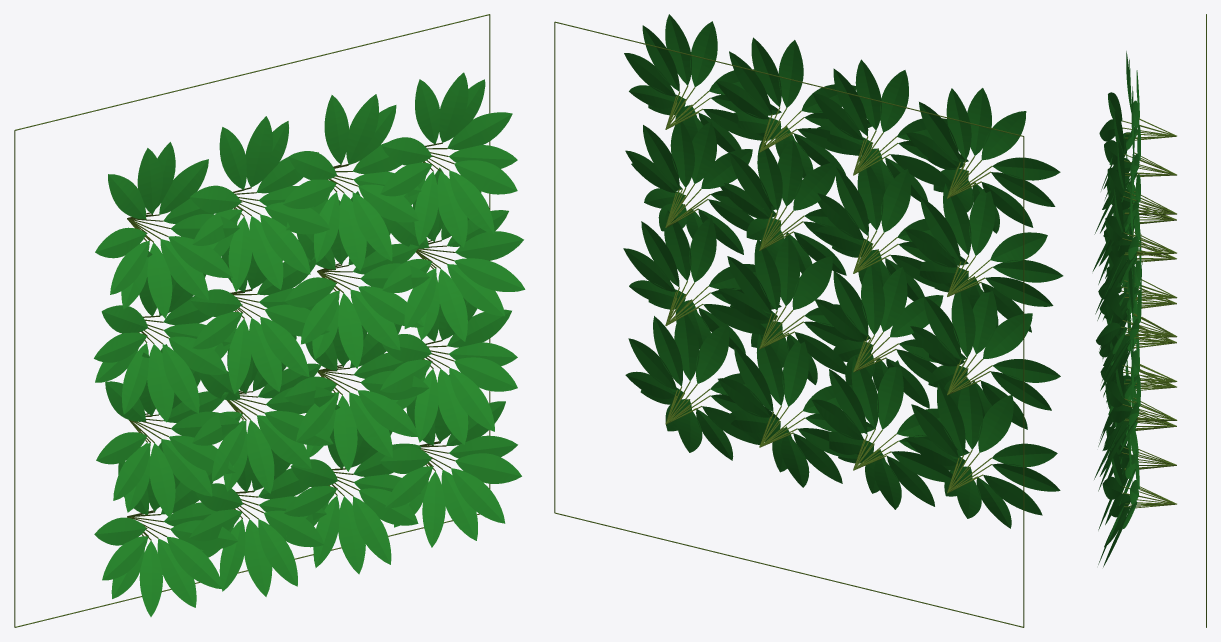
Rendered from spathiphyllum_green_wall_1m2.obj.
3 renders of one model, left to right at view 1: azimuth 30°, elevation 25°; view 2: azimuth 150°, elevation 25°; view 3: azimuth 270°, elevation 25°, orthographic. The views are drawn at different scales.
Visible parts, largest first — view 1: leaf_unit_2_3_3, leaf_unit_1_2_3, leaf_unit_0_0_3, leaf_unit_0_3_3, leaf_unit_2_1_3, leaf_unit_3_3_3, leaf_unit_3_1_3, leaf_unit_1_3_3, leaf_unit_1_3_8, leaf_unit_3_2_3, leaf_unit_0_1_3, leaf_unit_3_3_8 (+113 smaller); view 2: leaf_unit_1_0_7, leaf_unit_1_2_7, leaf_unit_0_0_7, leaf_unit_0_3_7, leaf_unit_3_0_7, leaf_unit_2_1_7, leaf_unit_0_2_7, leaf_unit_1_3_7, leaf_unit_0_1_7, leaf_unit_2_0_7, leaf_unit_2_2_7, leaf_unit_3_3_7 (+92 smaller); view 3: stem_panel_edge_1, leaf_unit_2_3_9, leaf_unit_1_3_9, leaf_unit_3_3_9, leaf_unit_2_3_4, leaf_unit_0_3_9, leaf_unit_1_3_1, leaf_unit_3_2_9, leaf_unit_0_3_1, leaf_unit_3_3_1, leaf_unit_3_1_9, leaf_unit_3_3_4 (+17 smaller).
Part boxes in pixels (left/top/right/bottom): leaf_unit_2_3_3: left=454, top=258, right=525, bottom=291; leaf_unit_1_2_3: left=357, top=390, right=418, bottom=436; leaf_unit_0_0_3: left=166, top=536, right=223, bottom=589; leaf_unit_0_3_3: left=451, top=468, right=505, bottom=523; leaf_unit_2_1_3: left=260, top=316, right=309, bottom=376; leaf_unit_3_3_3: left=449, top=170, right=494, bottom=234; leaf_unit_3_1_3: left=260, top=214, right=310, bottom=274; leaf_unit_1_3_3: left=449, top=367, right=494, bottom=431; leaf_unit_1_3_8: left=454, top=357, right=517, bottom=391; leaf_unit_3_2_3: left=352, top=192, right=392, bottom=261; leaf_unit_0_1_3: left=258, top=519, right=297, bottom=586; leaf_unit_3_3_8: left=454, top=160, right=517, bottom=194; leaf_unit_1_0_7: left=983, top=313, right=1032, bottom=359; leaf_unit_1_2_7: left=792, top=256, right=832, bottom=309; leaf_unit_0_0_7: left=978, top=395, right=1013, bottom=452; leaf_unit_0_3_7: left=696, top=323, right=729, bottom=383; leaf_unit_3_0_7: left=981, top=111, right=1026, bottom=160; leaf_unit_2_1_7: left=881, top=169, right=910, bottom=232; leaf_unit_0_2_7: left=782, top=340, right=808, bottom=406; leaf_unit_1_3_7: left=689, top=217, right=716, bottom=282; leaf_unit_0_1_7: left=877, top=360, right=903, bottom=429; leaf_unit_2_0_7: left=969, top=189, right=994, bottom=255; leaf_unit_2_2_7: left=793, top=162, right=836, bottom=210; leaf_unit_3_3_7: left=690, top=21, right=717, bottom=86; stem_panel_edge_1: left=1206, top=209, right=1206, bottom=627; leaf_unit_2_3_9: left=1096, top=322, right=1120, bottom=345; leaf_unit_1_3_9: left=1105, top=381, right=1122, bottom=407; leaf_unit_3_3_9: left=1105, top=215, right=1122, bottom=241; leaf_unit_2_3_4: left=1106, top=297, right=1122, bottom=323; leaf_unit_0_3_9: left=1102, top=476, right=1121, bottom=499; leaf_unit_1_3_1: left=1111, top=400, right=1131, bottom=422; leaf_unit_3_2_9: left=1107, top=168, right=1122, bottom=197; leaf_unit_0_3_1: left=1109, top=493, right=1130, bottom=517; leaf_unit_3_3_1: left=1111, top=234, right=1131, bottom=256; leaf_unit_3_1_9: left=1104, top=140, right=1117, bottom=164; leaf_unit_3_3_4: left=1114, top=187, right=1123, bottom=232.
Bounding box in the file's own units: 1 × 1 × 0.2488.
